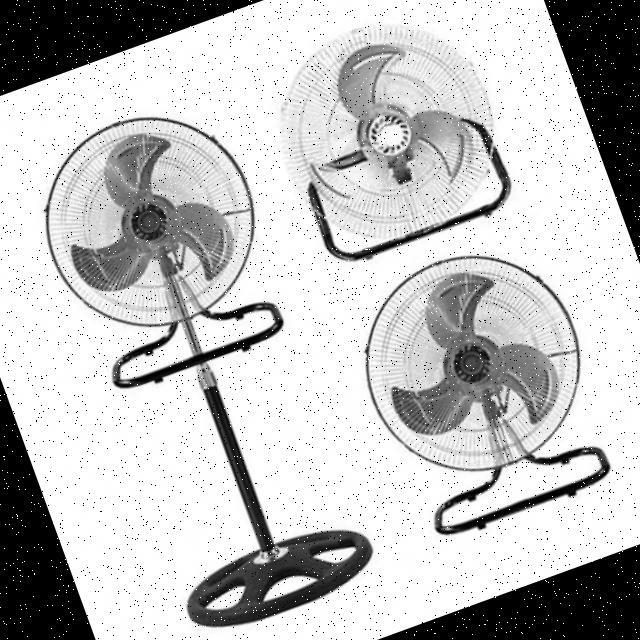fan: (325, 209, 640, 519), (16, 81, 310, 404), (244, 0, 544, 283)
